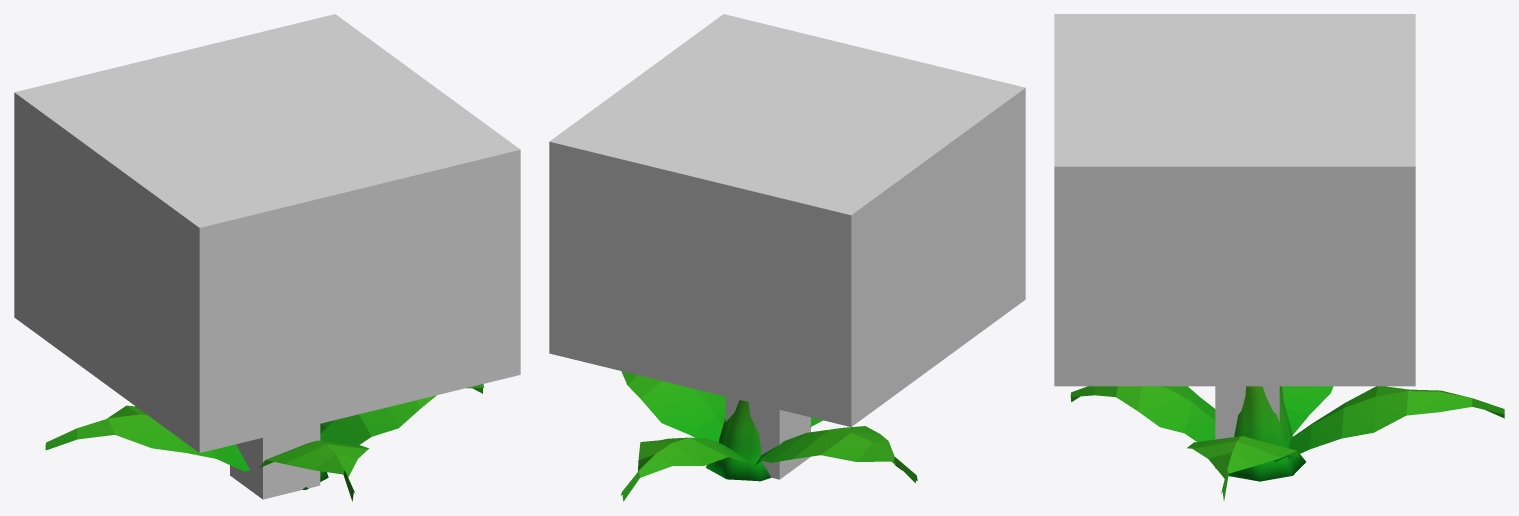
The model's file is Plant_Collector_02.fbx.
The picture shows the model from 3 angles, left to right: view 1: azimuth 30°, elevation 25°; view 2: azimuth 150°, elevation 25°; view 3: azimuth 270°, elevation 25°; orthographic projection. The views are drawn at different scales.
Visible parts, largest first — view 1: INTERACT_02, Plant_Collector_02, COL_02_0; view 2: INTERACT_02, Plant_Collector_02, COL_02_0; view 3: INTERACT_02, Plant_Collector_02, COL_02_0.
Boxes of the visible parts, x1,y1,x2,y2 form: INTERACT_02: [14, 14, 520, 452]; Plant_Collector_02: [45, 384, 483, 501]; COL_02_0: [230, 424, 320, 499]; INTERACT_02: [549, 14, 1025, 426]; Plant_Collector_02: [621, 371, 917, 501]; COL_02_0: [725, 396, 810, 479]; INTERACT_02: [1054, 14, 1415, 386]; Plant_Collector_02: [1070, 386, 1504, 500]; COL_02_0: [1215, 386, 1279, 468].
Bounding box in the file's own units: 2.72 × 2.45 × 2.79.
